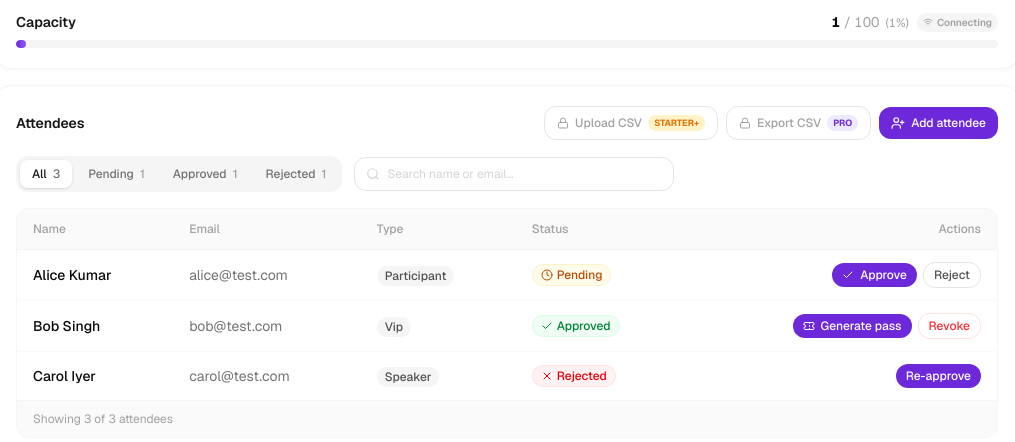
Test: AttendeeTable › filters to pending tab correctly
Click the button "pending1".
click(116, 174)  # box [76,160,157,188]
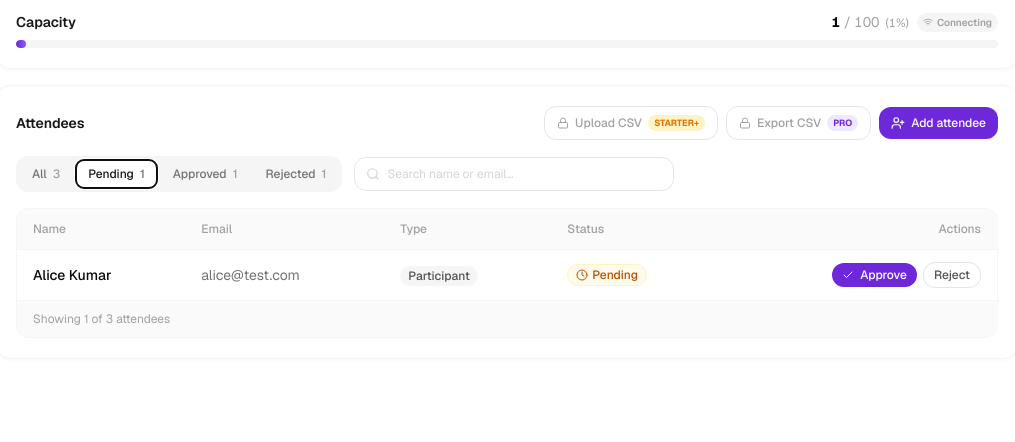
Expected: the text "Alice Kumar" is shown, [33,266,111,284]
Expected: the text "Bob Singh" is gone
Expected: the text "Carol Iyer" is gone
